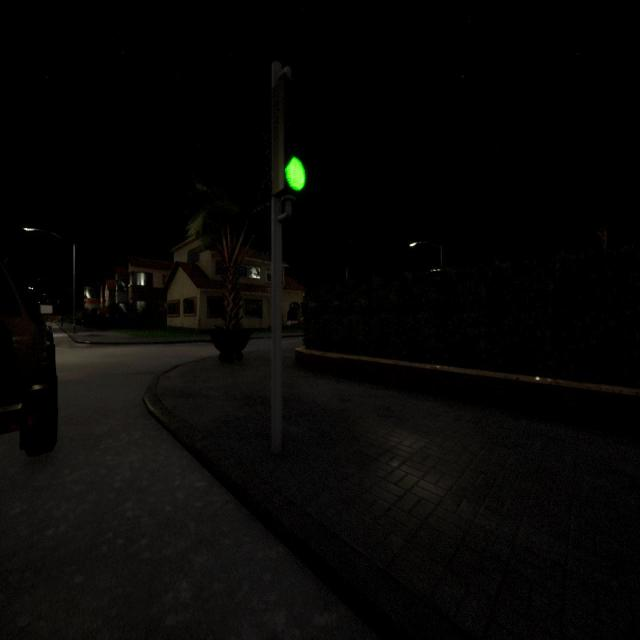Vehicle: (0, 263, 58, 456)
traffic_light: (272, 80, 308, 206)
